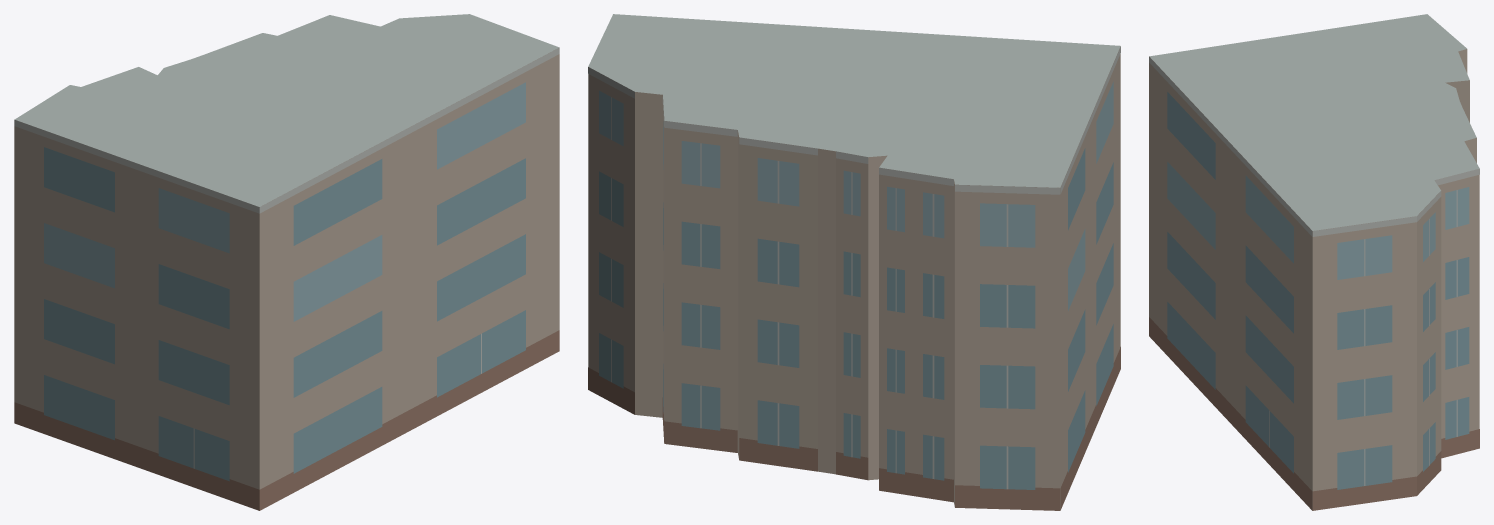
Rendered from survey-upis-32580590.glb.
The picture shows the model from 3 angles, left to right: view 1: azimuth 30°, elevation 25°; view 2: azimuth 150°, elevation 25°; view 3: azimuth 270°, elevation 25°; orthographic projection. The views are drawn at different scales.
Visible parts, largest first — view 1: survey-upis-32580590.tmp; view 2: survey-upis-32580590.tmp; view 3: survey-upis-32580590.tmp.
Boxes of the visible parts, left/top/right/bottom form: survey-upis-32580590.tmp: left=14, top=14, right=559, bottom=510; survey-upis-32580590.tmp: left=588, top=14, right=1120, bottom=510; survey-upis-32580590.tmp: left=1149, top=14, right=1479, bottom=510.
Size of the model in its own units: 18.8 by 11.3 by 12.11.
